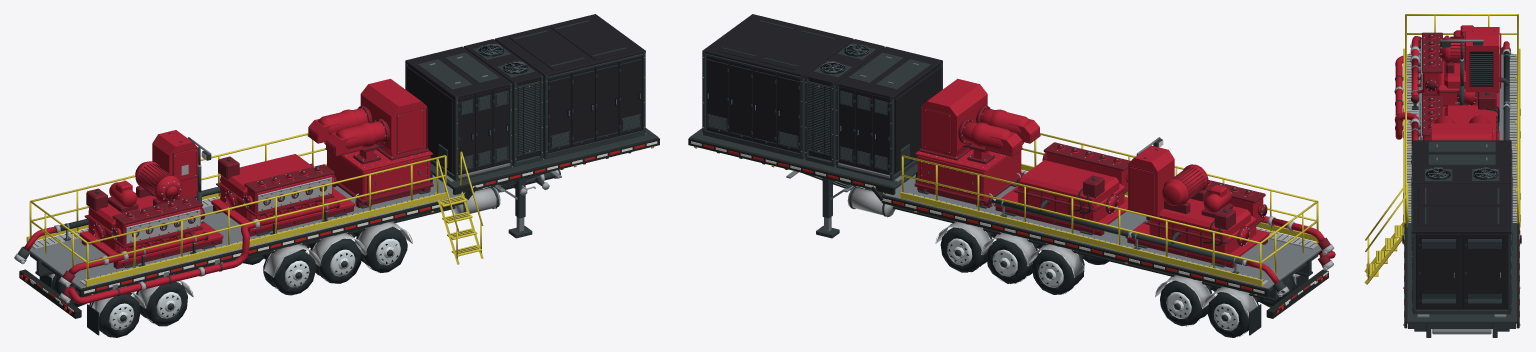
The model's file is efracpump.glb.
3 views of the same model, side by side, from view 1: azimuth 30°, elevation 25°; view 2: azimuth 150°, elevation 25°; view 3: azimuth 270°, elevation 25° (orthographic).
Parts seen in each view (by area): view 1: E_Fleet_Drive_cabinets__cabinet_138, E_Fleet_Electrical_cabinets__cabinet_126, E_Fleet_Work_platform__yellow_27, E_Fleet_Running_gear__rubber_11, E_Fleet_Trailer_frame__black_2, E_Fleet_Electrical_cabinets__darksteel_127, E_Fleet_Trailer_frame__steel_3, E_Fleet_Auxiliary_service_module_Upper_shroud__red_155, E_Fleet_Auxiliary_service_module_Enclosure__red_148, E_Fleet_Cooling_module__darksteel_133, E_Fleet_Running_gear__chrome_12, E_Fleet_Drive_cabinets__darksteel_139 (+34 smaller); view 2: E_Fleet_Drive_cabinets__cabinet_138, E_Fleet_Work_platform__yellow_27, E_Fleet_Electrical_cabinets__cabinet_126, E_Fleet_Running_gear__rubber_11, E_Fleet_Trailer_frame__black_2, E_Fleet_Trailer_frame__steel_3, E_Fleet_Electrical_cabinets__darksteel_127, E_Fleet_Pump_2_Powerend__red_110, E_Fleet_Auxiliary_service_module_Upper_shroud__red_155, E_Fleet_Auxiliary_service_module_Enclosure__red_148, E_Fleet_Running_gear__chrome_12, E_Fleet_Cooling_module__darksteel_133 (+29 smaller); view 3: E_Fleet_Drive_cabinets__cabinet_138, E_Fleet_Drive_cabinets__darksteel_139, E_Fleet_Trailer_frame__darksteel_1, E_Fleet_Work_platform__yellow_27, E_Fleet_Work_platform__silver_25, E_Fleet_Electrical_cabinets__darksteel_127, E_Fleet_Electrical_cabinets__cabinet_126, E_Fleet_Pump_1_Cooling_cover__red_93, E_Fleet_Access_stair__yellow_29, E_Fleet_Drive_cabinets__grille_142, E_Fleet_Auxiliary_service_module_Upper_shroud__red_155, E_Fleet_Cooling_module__cabinet_132 (+29 smaller).
Boxes of the visible parts, x1,y1,x2,y2 form: E_Fleet_Drive_cabinets__cabinet_138: (494,14,645,153); E_Fleet_Electrical_cabinets__cabinet_126: (405,46,512,175); E_Fleet_Work_platform__yellow_27: (26,133,447,286); E_Fleet_Running_gear__rubber_11: (52,227,407,337); E_Fleet_Trailer_frame__black_2: (22,137,659,301); E_Fleet_Electrical_cabinets__darksteel_127: (405,52,512,181); E_Fleet_Trailer_frame__steel_3: (29,174,461,288); E_Fleet_Auxiliary_service_module_Upper_shroud__red_155: (360,79,426,156); E_Fleet_Auxiliary_service_module_Enclosure__red_148: (324,142,432,199); E_Fleet_Cooling_module__darksteel_133: (472,43,543,166); E_Fleet_Running_gear__chrome_12: (52,221,412,329); E_Fleet_Drive_cabinets__darksteel_139: (513,20,645,159); E_Fleet_Drive_cabinets__cabinet_138: (702,14,853,153); E_Fleet_Work_platform__yellow_27: (899,133,1318,286); E_Fleet_Electrical_cabinets__cabinet_126: (835,46,942,175); E_Fleet_Running_gear__rubber_11: (940,227,1296,337); E_Fleet_Trailer_frame__black_2: (688,137,1322,301); E_Fleet_Trailer_frame__steel_3: (884,174,1321,288); E_Fleet_Electrical_cabinets__darksteel_127: (836,52,942,181); E_Fleet_Pump_2_Powerend__red_110: (1018,160,1124,221); E_Fleet_Auxiliary_service_module_Upper_shroud__red_155: (921,78,987,157); E_Fleet_Auxiliary_service_module_Enclosure__red_148: (915,142,1023,199); E_Fleet_Running_gear__chrome_12: (935,221,1296,330); E_Fleet_Cooling_module__darksteel_133: (805,43,875,166); E_Fleet_Drive_cabinets__cabinet_138: (1412,183,1511,309); E_Fleet_Drive_cabinets__darksteel_139: (1411,184,1512,314); E_Fleet_Trailer_frame__darksteel_1: (1407,223,1516,337); E_Fleet_Work_platform__yellow_27: (1403,14,1520,227); E_Fleet_Work_platform__silver_25: (1407,55,1516,222); E_Fleet_Electrical_cabinets__darksteel_127: (1411,141,1512,175); E_Fleet_Electrical_cabinets__cabinet_126: (1412,140,1511,168); E_Fleet_Pump_1_Cooling_cover__red_93: (1464,27,1501,92); E_Fleet_Access_stair__yellow_29: (1364,182,1410,284); E_Fleet_Drive_cabinets__grille_142: (1420,238,1503,303); E_Fleet_Auxiliary_service_module_Upper_shroud__red_155: (1430,123,1492,140); E_Fleet_Cooling_module__cabinet_132: (1411,168,1512,250).
Bounding box in the file's own units: 16.24 × 4.19 × 3.8.
